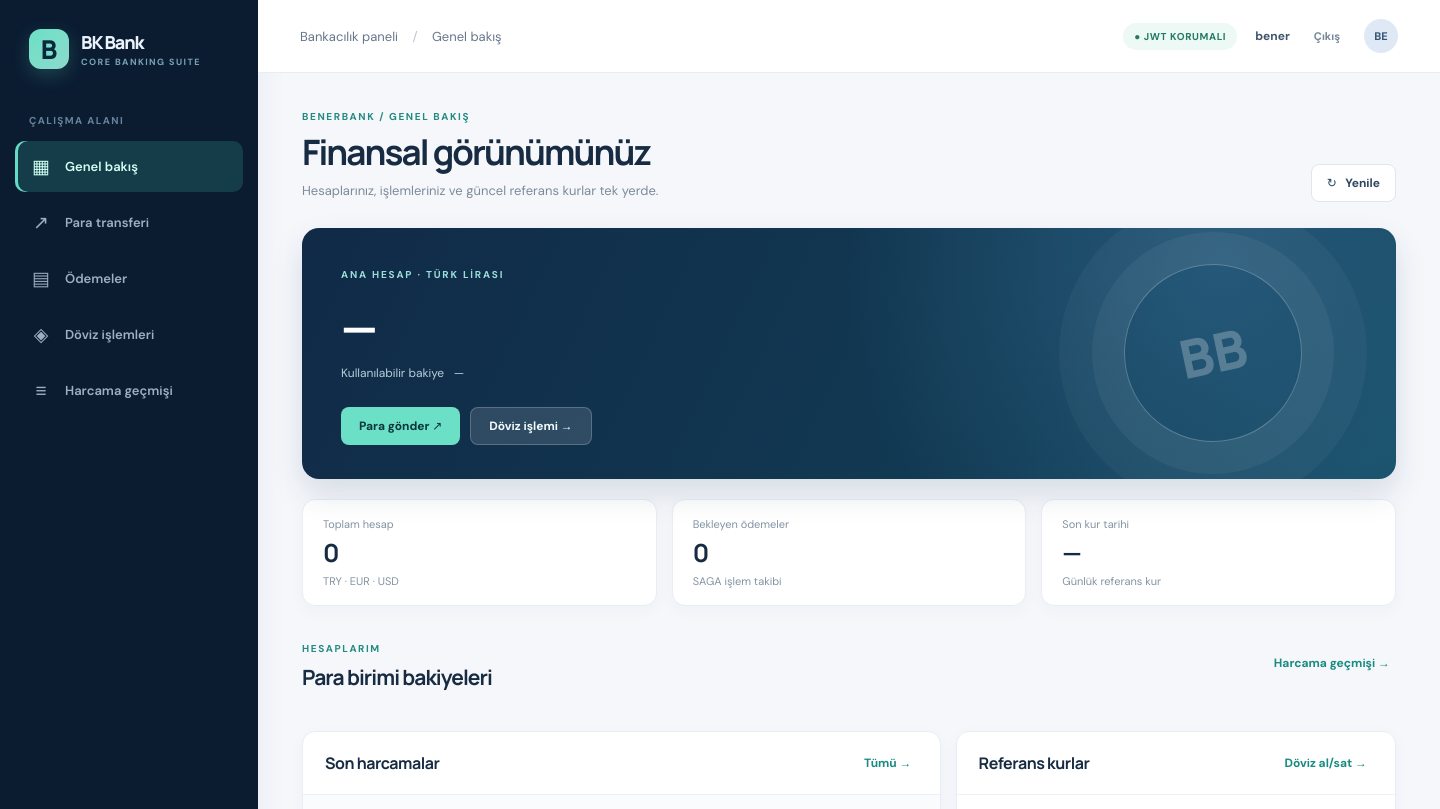
Scenario: shows honest empty states when accounts and histories have no data
Expected: the heading "Finansal görünümünüz" is shown, [302,131,658,173]
Click the button "↗ Para transferi" at (129, 222), box [15,197,243,248]
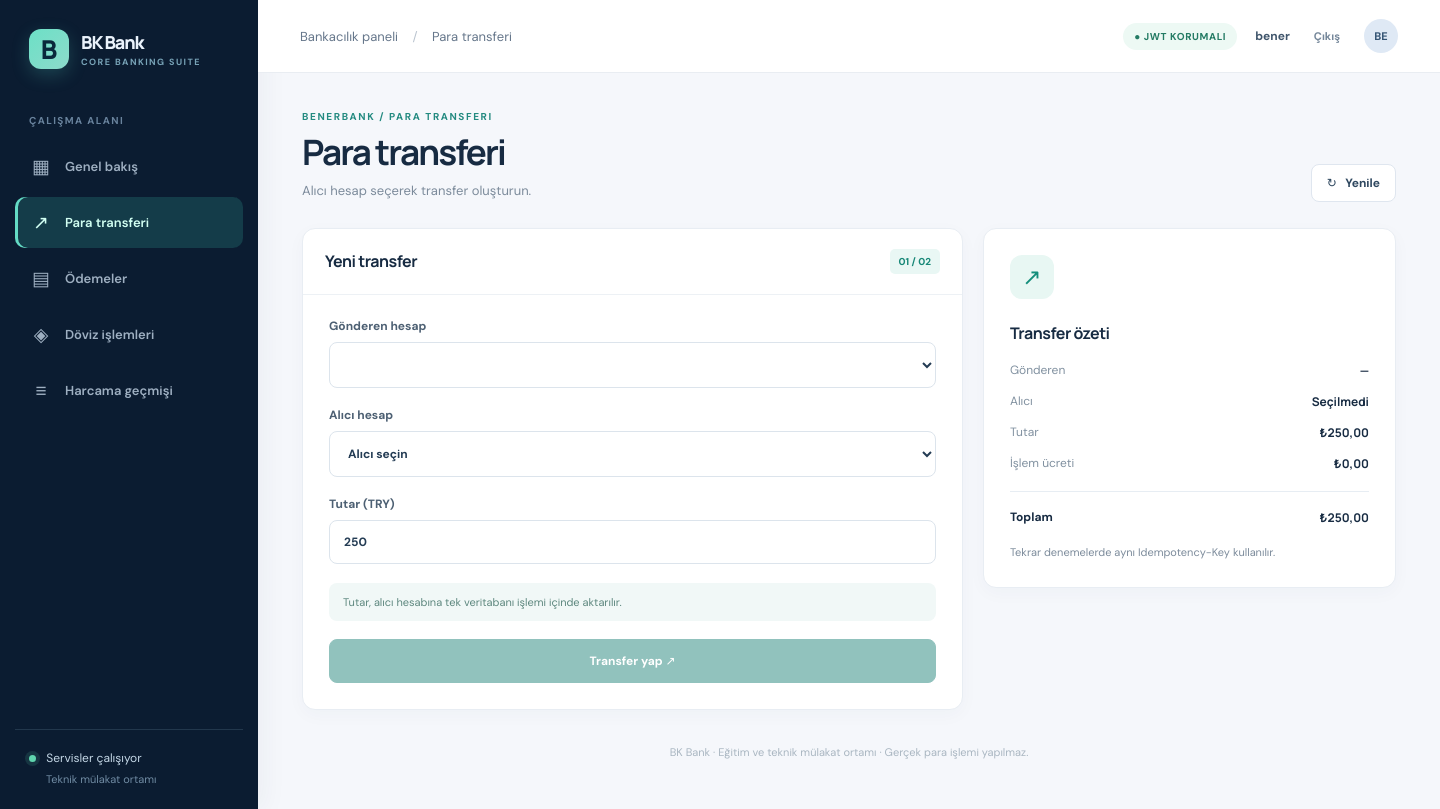
Expected: the text "Seçilmedi" is shown, [1312,393,1369,410]
Click the button "▤ Ödemeler" at (129, 278), box [15,253,243,304]
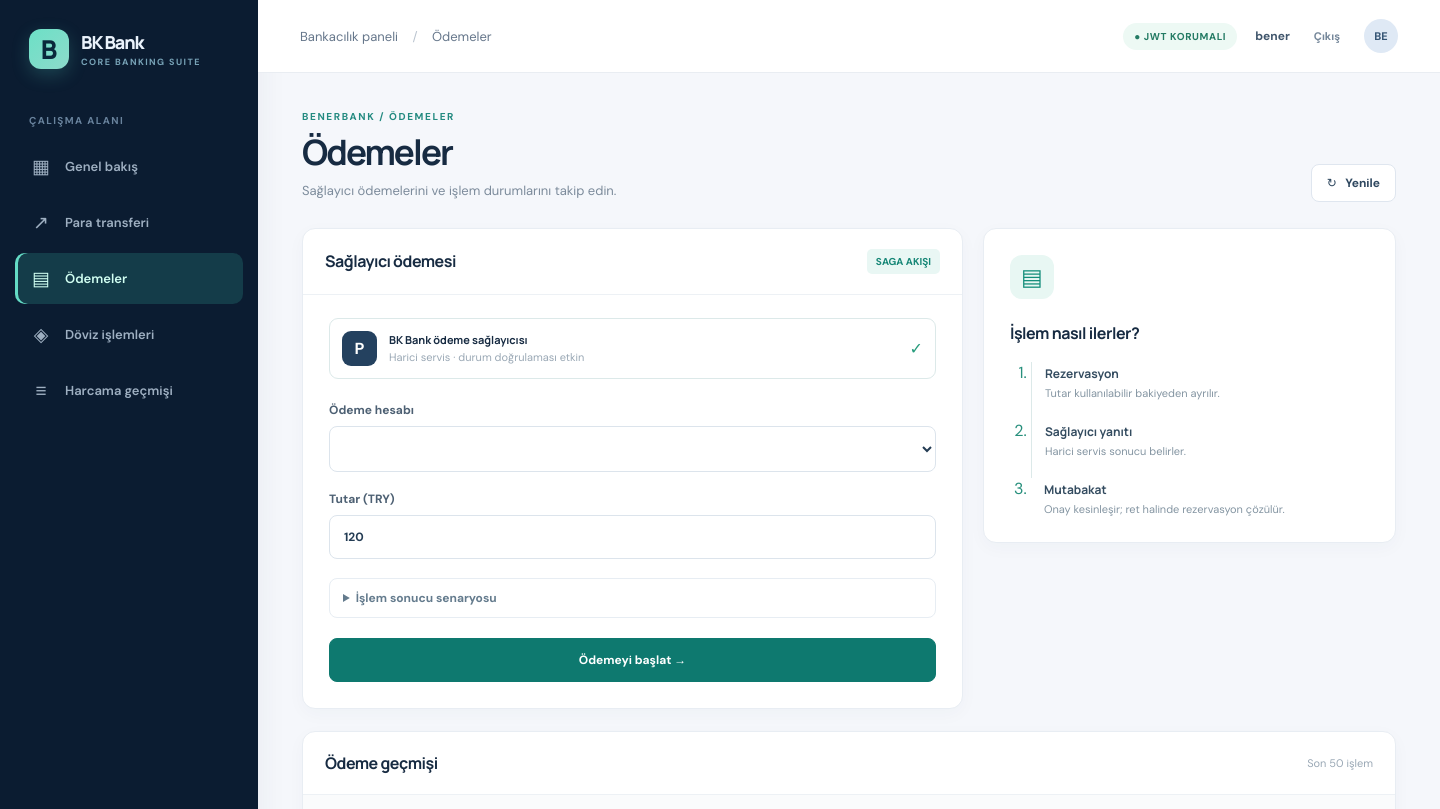
Click the button "◈ Döviz işlemleri" at (129, 334), box [15,309,243,360]
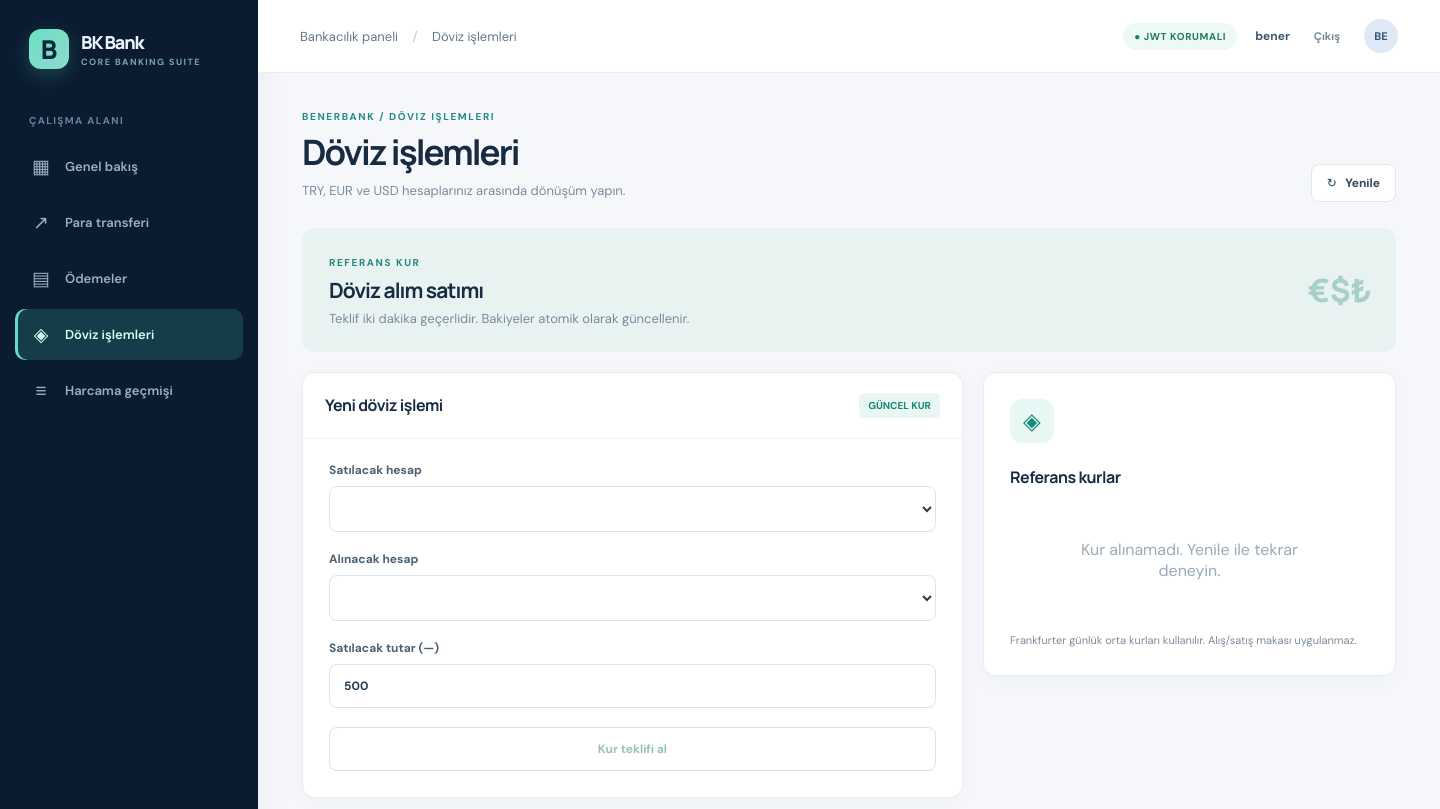
Expected: the text "Kur alınamadı. Yenile ile tekrar deneyin." is shown, [1081,539,1298,581]
Expected: the button "Kur teklifi al" is disabled, [329,727,936,771]
Click the button "≡ Harcama geçmişi" at (129, 390), box [15,365,243,416]
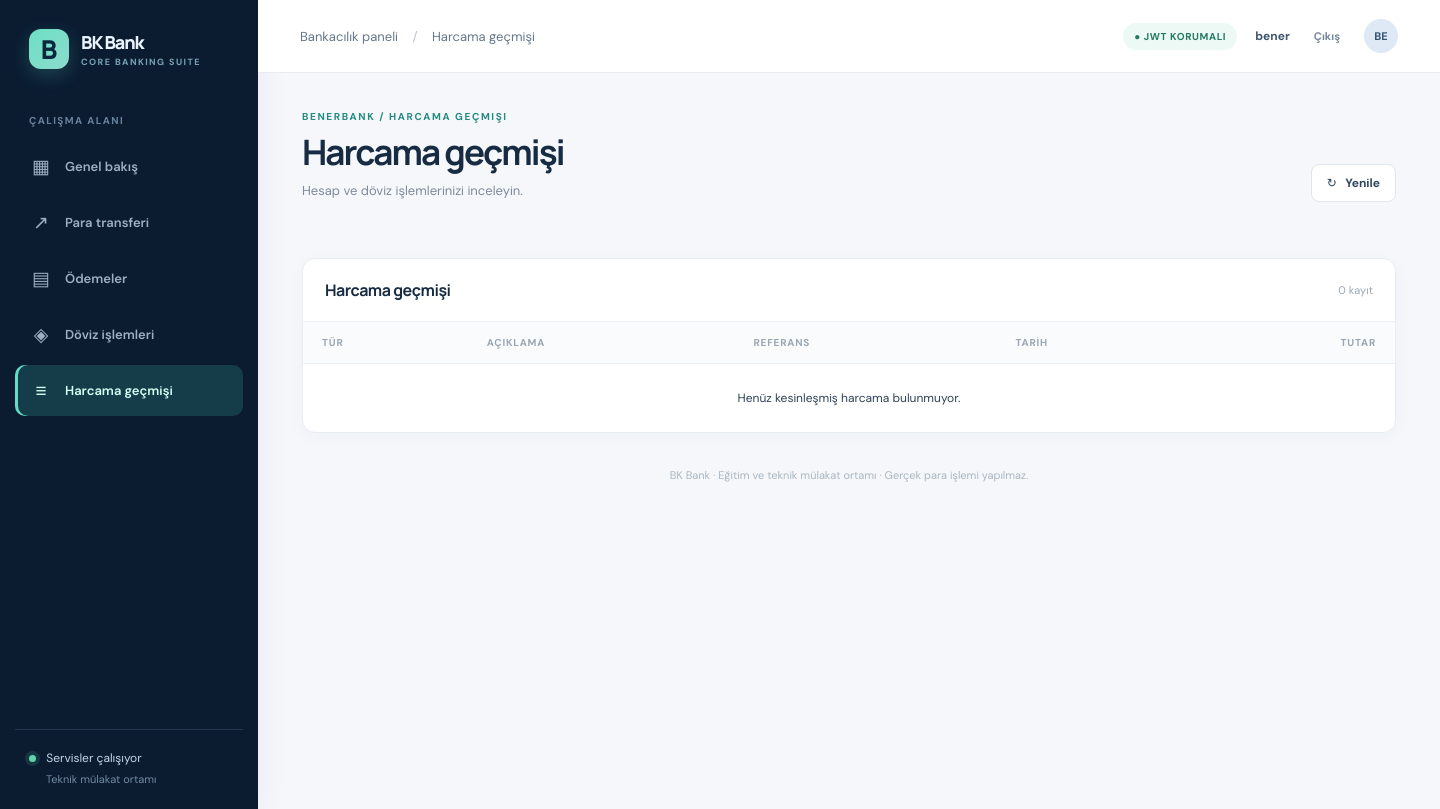
Expected: the text "Henüz kesinleşmiş harcama bulunmuyor." is shown, [303,363,1395,432]
